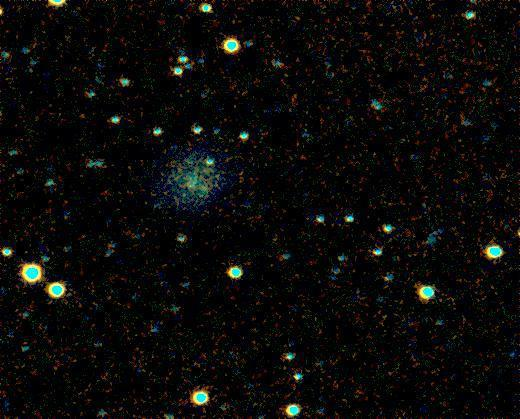star: (173, 164, 203, 194)
